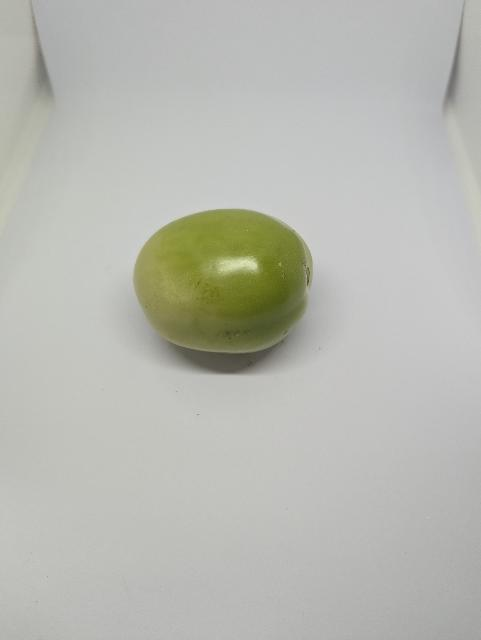green: (132, 207, 316, 357)
